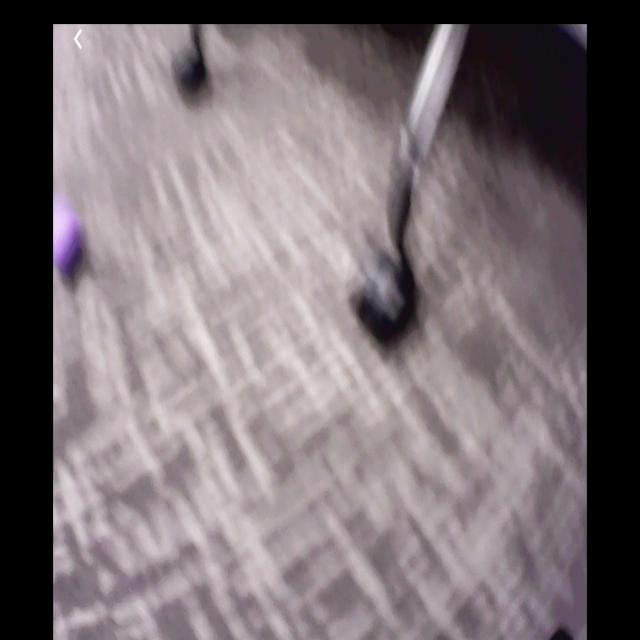ball: (55, 210, 87, 277)
